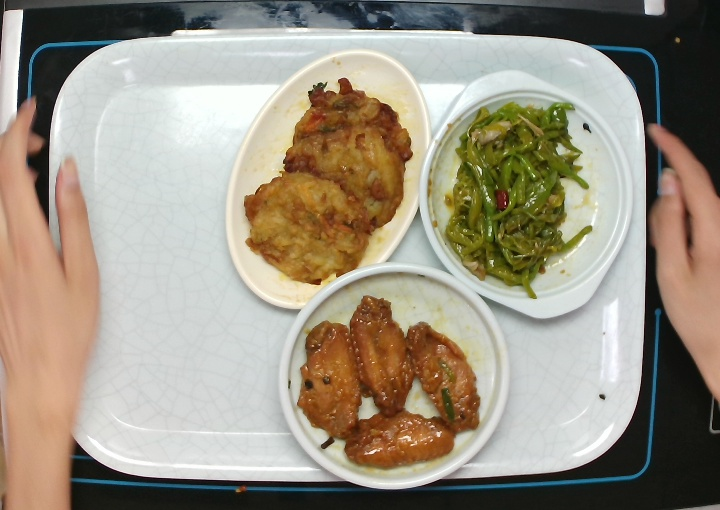JYsf-Shuang_Er_Pan: (417, 62, 638, 327)
JYsf-Tuo_Yuan_Wan: (220, 43, 437, 309)
JYsf-Xiao_Yuan_Pan: (271, 251, 515, 499)
